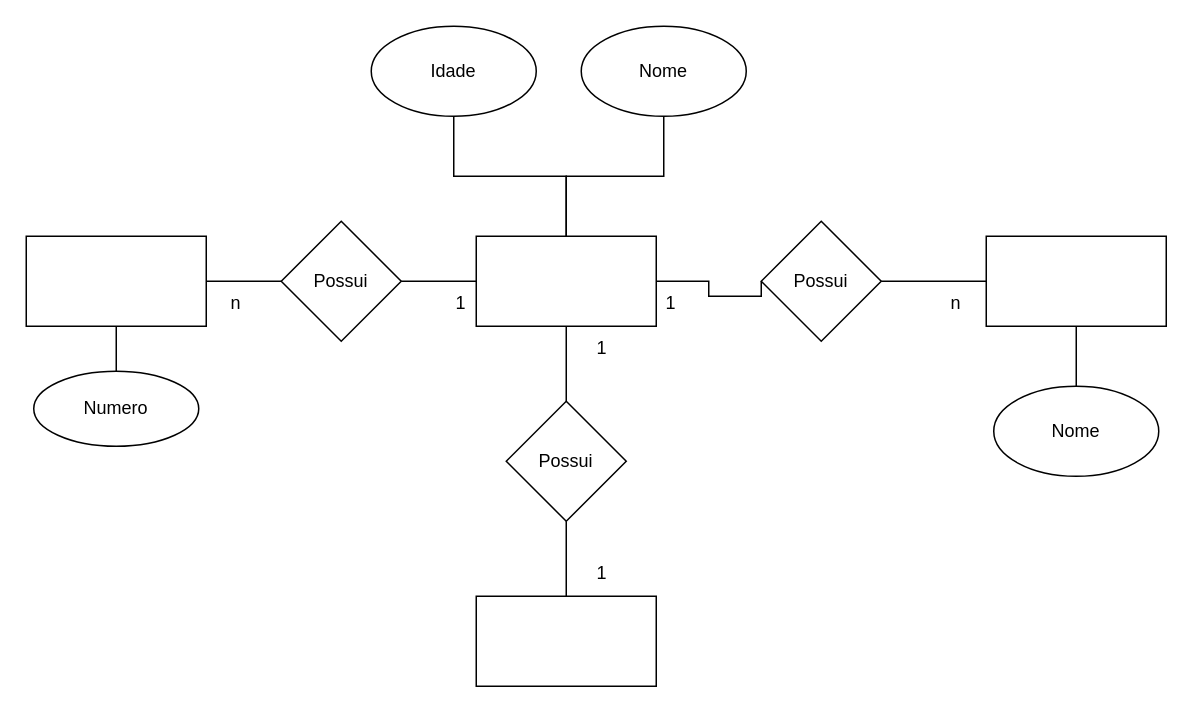
This 1193x713 diagram has some shape labels left out. Here are the shapes that lost their labels. From the top down, the centre of each, then its label:
(x=115, y=280): Telefone
(x=565, y=280): Pessoa
(x=1075, y=280): Email
(x=565, y=640): CNH
